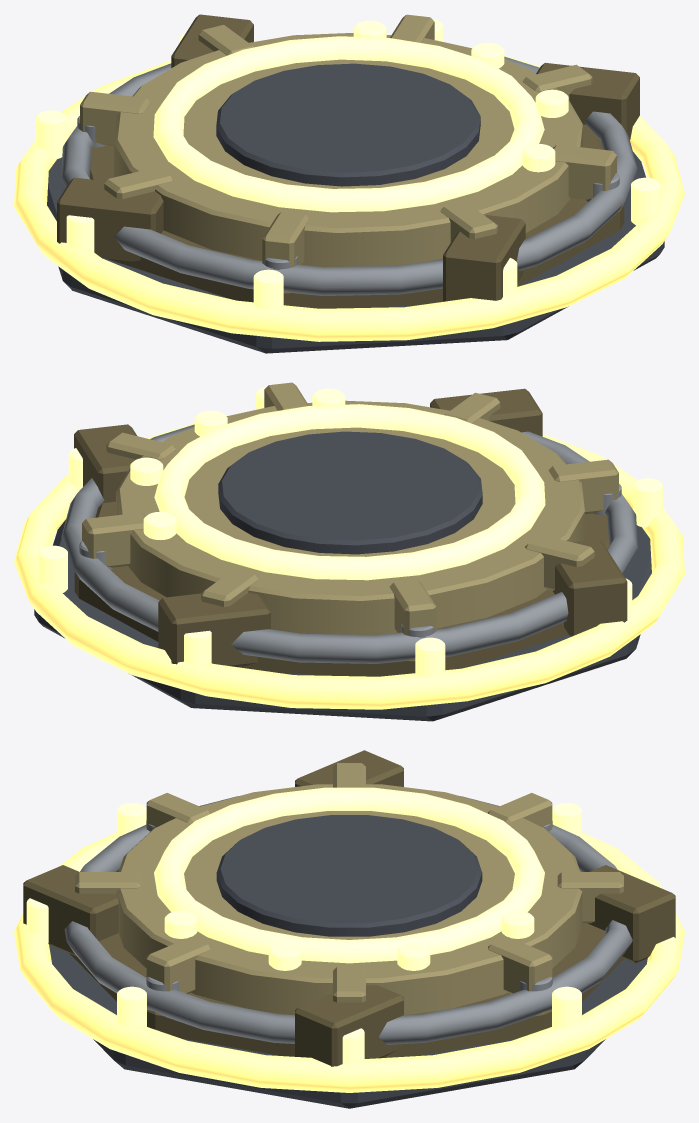
File: flak_base_l4.glb
3 renders of one model, top to bottom at view 1: azimuth 30°, elevation 25°; view 2: azimuth 150°, elevation 25°; view 3: azimuth 270°, elevation 25°, orthographic.
Visible parts, largest first — view 1: Cylinder.002, Torus.002, Cylinder.003, Torus.001, Torus, Cylinder, Cylinder.001, Cube.010, Cube.011, Cube.008, Cube.007, Cube.003 (+15 smaller); view 2: Cylinder.002, Torus.002, Cylinder.003, Torus.001, Torus, Cylinder, Cylinder.001, Cube.009, Cube.010, Cube.008, Cube.001, Cube.011 (+16 smaller); view 3: Cylinder.002, Torus.002, Cylinder.003, Torus.001, Torus, Cylinder, Cylinder.001, Cube.008, Cube.011, Cube.009, Cube.001, Cube.007 (+17 smaller).
Part boxes in pixels (<box>): Cylinder.002: <box>114,33,582,267</box>; Torus.002: <box>14,55,684,341</box>; Cylinder.003: <box>216,63,480,186</box>; Torus.001: <box>153,36,544,212</box>; Torus: <box>61,56,637,295</box>; Cylinder: <box>47,152,664,353</box>; Cylinder.001: <box>90,124,624,308</box>; Cube.010: <box>57,177,163,261</box>; Cube.011: <box>443,215,525,301</box>; Cube.008: <box>536,62,639,139</box>; Cube.007: <box>553,144,616,199</box>; Cube.003: <box>80,91,150,146</box>; Cylinder.002: <box>116,400,584,634</box>; Torus.002: <box>14,423,684,709</box>; Cylinder.003: <box>218,431,482,554</box>; Torus.001: <box>154,404,545,580</box>; Torus: <box>61,424,637,663</box>; Cylinder: <box>34,519,651,721</box>; Cylinder.001: <box>74,501,608,676</box>; Cube.009: <box>158,592,270,666</box>; Cube.010: <box>553,539,627,636</box>; Cube.008: <box>74,424,137,502</box>; Cube.001: <box>82,512,145,567</box>; Cube.011: <box>430,388,542,436</box>; Cylinder.002: <box>116,784,583,1015</box>; Torus.002: <box>14,832,684,1092</box>; Cylinder.003: <box>216,815,482,936</box>; Torus.001: <box>154,787,544,963</box>; Torus: <box>64,796,632,1044</box>; Cylinder: <box>49,945,647,1108</box>; Cylinder.001: <box>69,923,624,1057</box>; Cube.008: <box>295,985,403,1066</box>; Cube.011: <box>23,865,118,956</box>; Cube.009: <box>588,865,675,962</box>; Cube.001: <box>488,937,552,993</box>; Cube.007: <box>146,937,210,993</box>.
Size of the model in its own units: 2.22 by 0.4 by 2.22.
